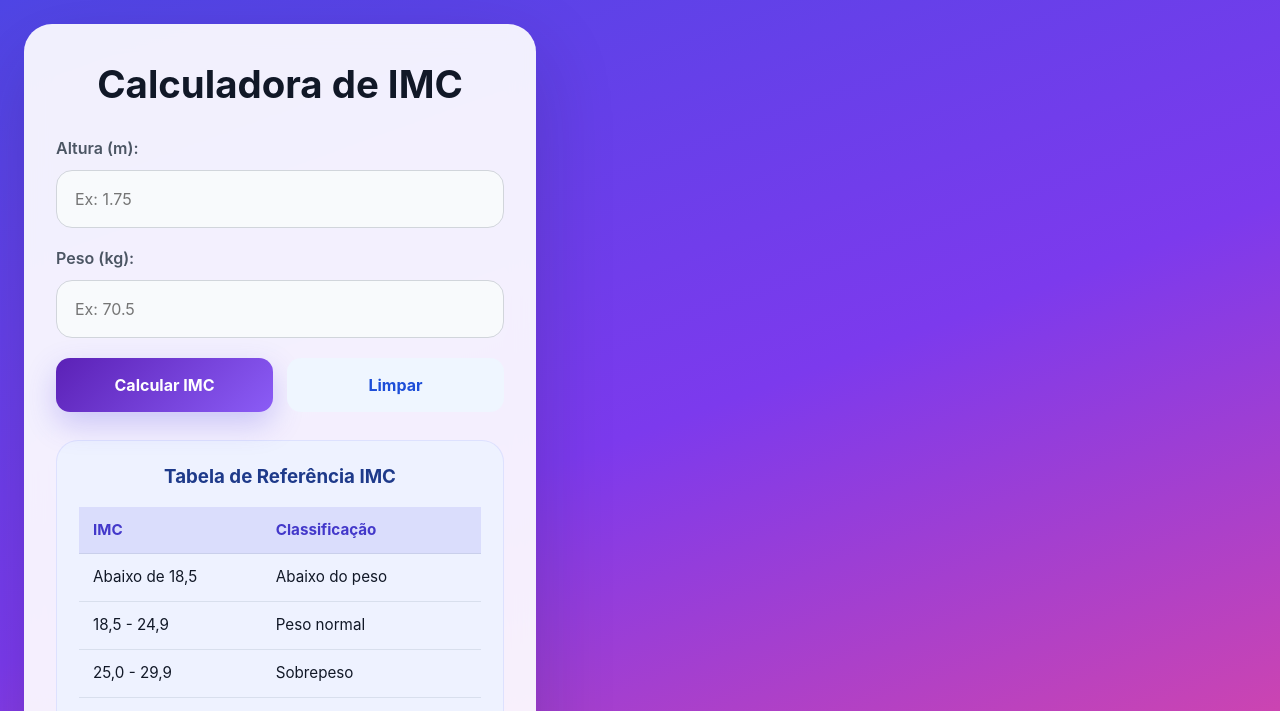
calcula IMC e mostra classificação (ex: peso normal)
In the field labelled "Altura (m):": (280, 199) left=56, top=170, right=504, bottom=228, type "1.75"
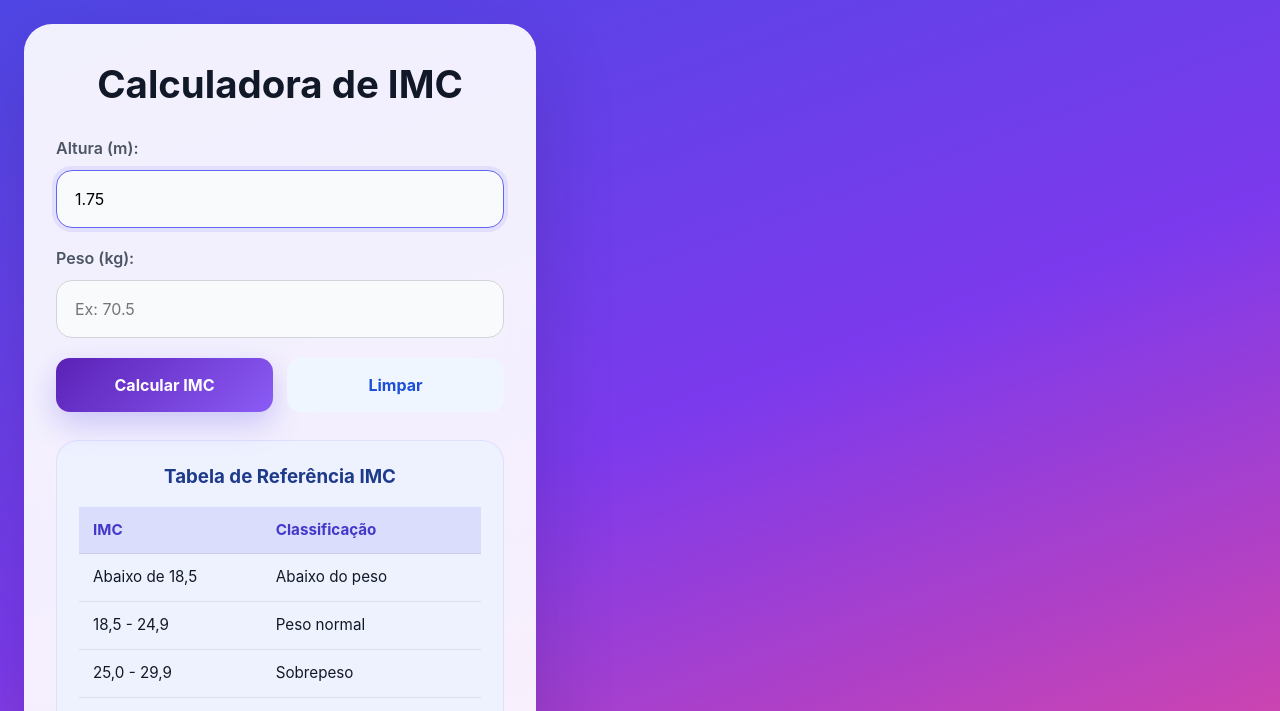
In the field labelled "Peso (kg):": (280, 309) left=56, top=280, right=504, bottom=338, type "70"
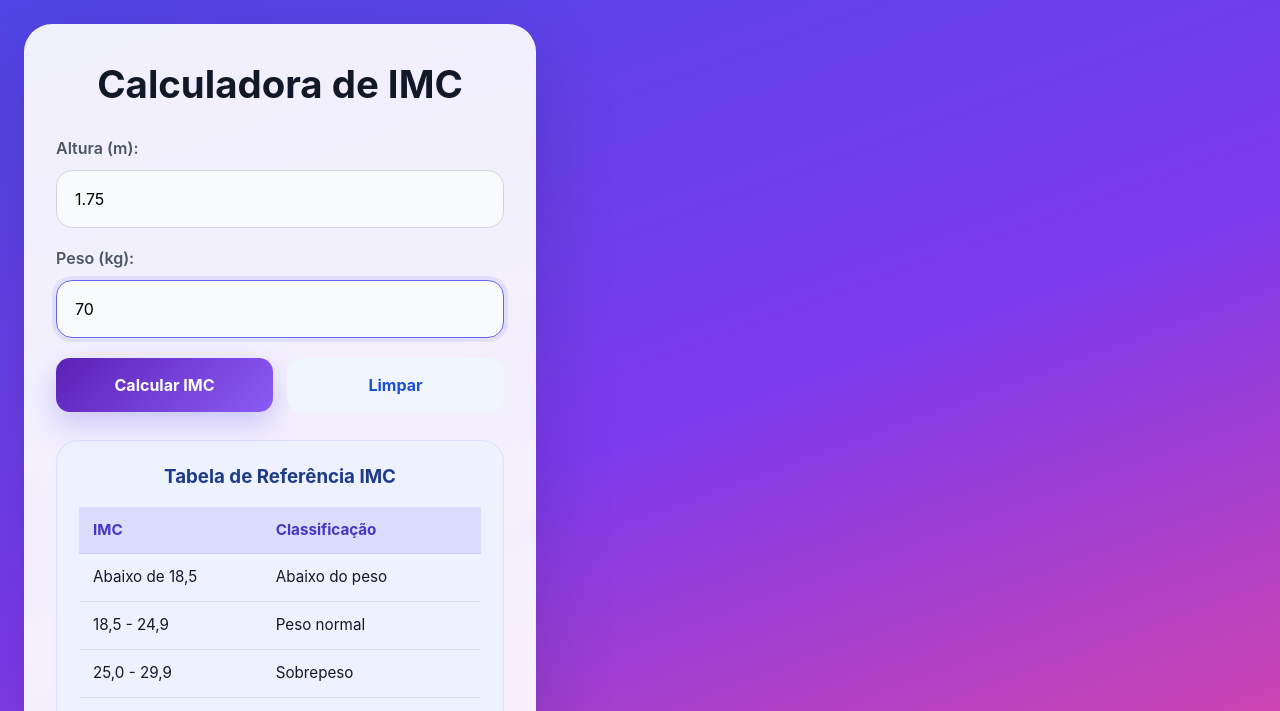
Click the button "Calcular IMC": (164, 385) left=56, top=358, right=273, bottom=412
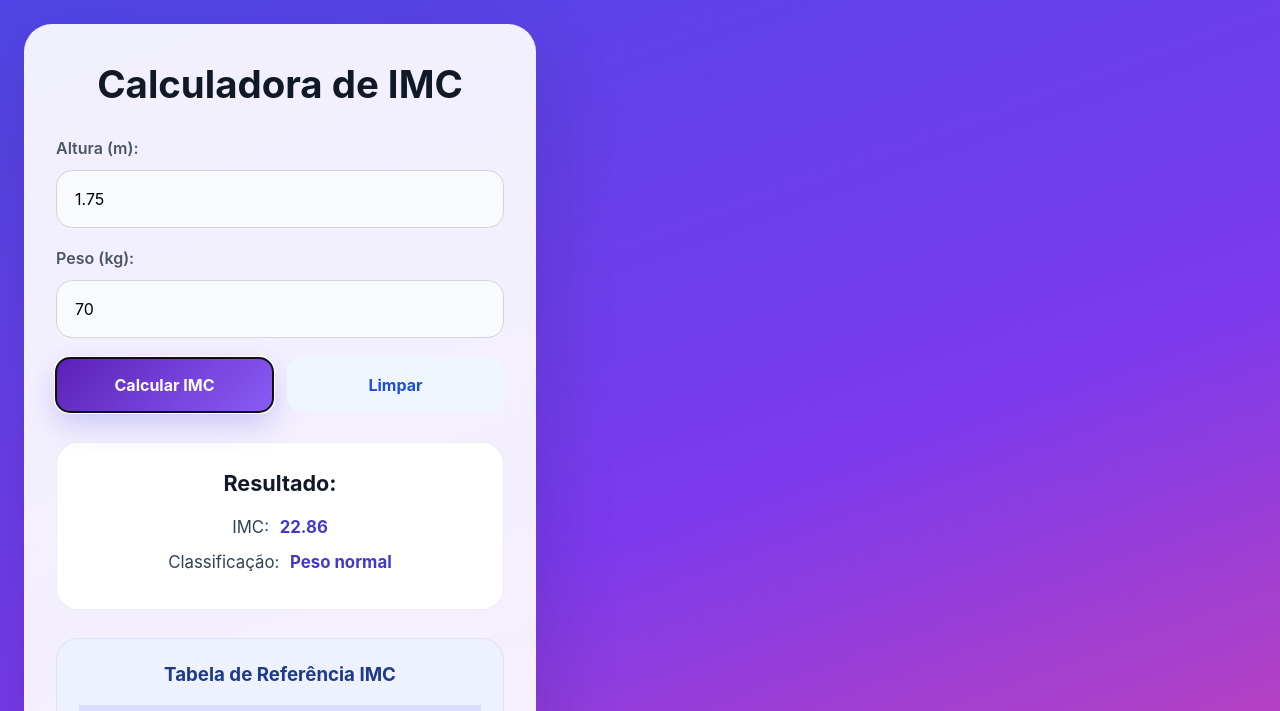
Now the text "IMC: 22.86" is shown, box left=232, top=517, right=328, bottom=537
Now the text "Classificação: Peso normal" is shown, box left=168, top=552, right=392, bottom=572
